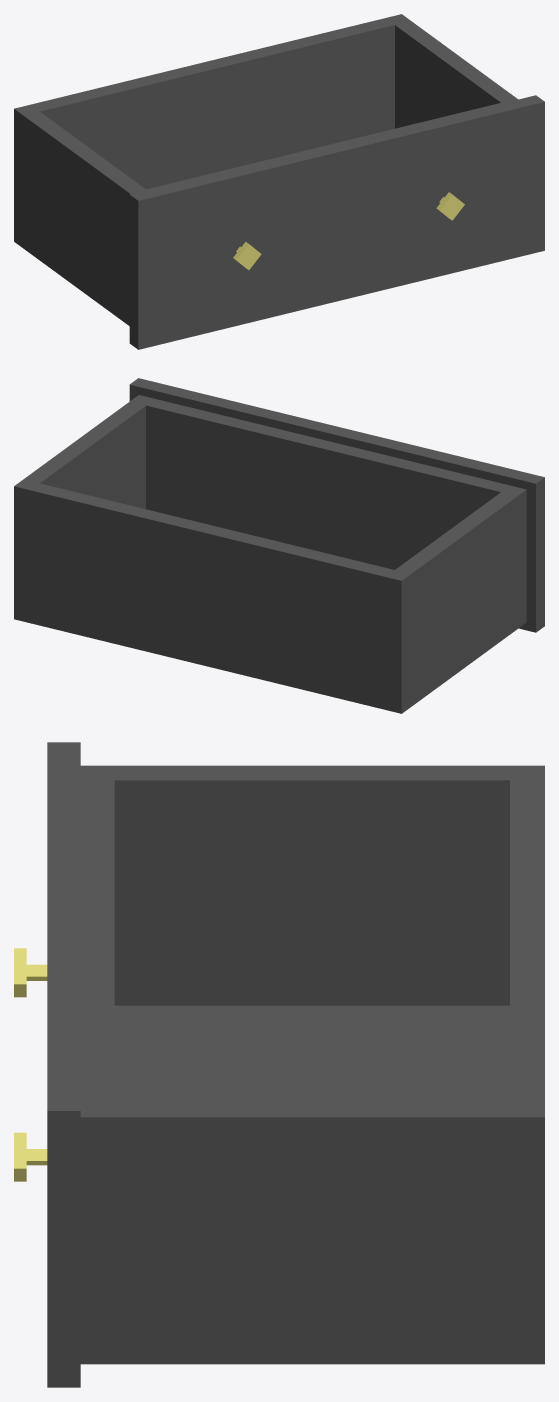
File: Itr_Wardrobe2_Drawer_Big_04.FBX
3 views of the same model, one above another, from view 1: azimuth 30°, elevation 25°; view 2: azimuth 150°, elevation 25°; view 3: azimuth 270°, elevation 25° (orthographic). The views are drawn at different scales.
Visible parts, largest first — view 1: Itr_Wardrobe2_Drawer_Big_04; view 2: Itr_Wardrobe2_Drawer_Big_04; view 3: Itr_Wardrobe2_Drawer_Big_04.
Part boxes in pixels (left/top/right/bottom): Itr_Wardrobe2_Drawer_Big_04: left=14, top=14, right=544, bottom=349; Itr_Wardrobe2_Drawer_Big_04: left=14, top=378, right=544, bottom=713; Itr_Wardrobe2_Drawer_Big_04: left=14, top=742, right=544, bottom=1387.
Size of the model in its own units: 37.86 by 13.26 by 23.04.
